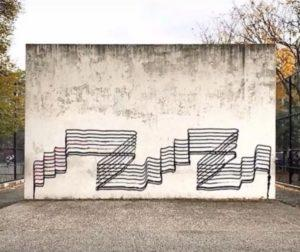graffiti: (34, 128, 270, 198)
